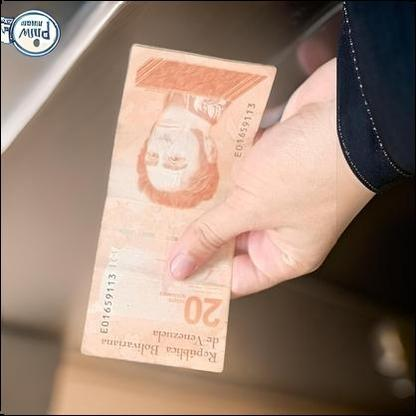twenty-front-vef: (80, 44, 276, 374)
